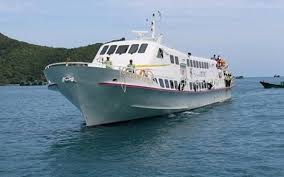tau_dansu: (45, 25, 235, 118)
